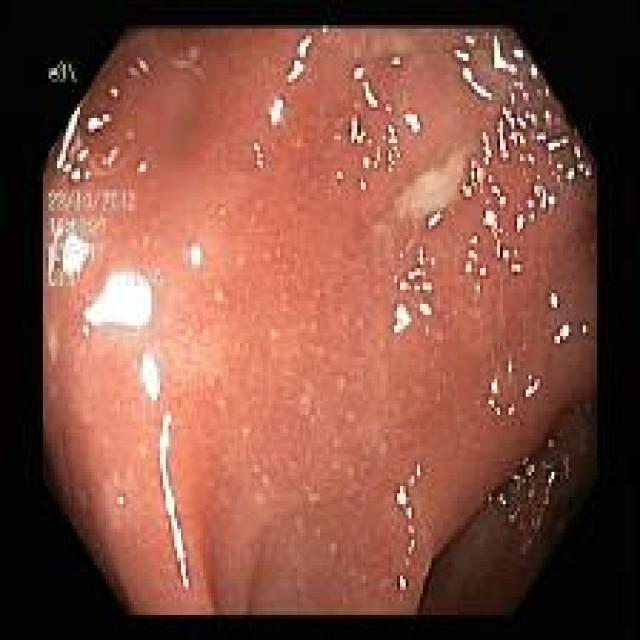ulcerative-colitis: (44, 28, 596, 615)
